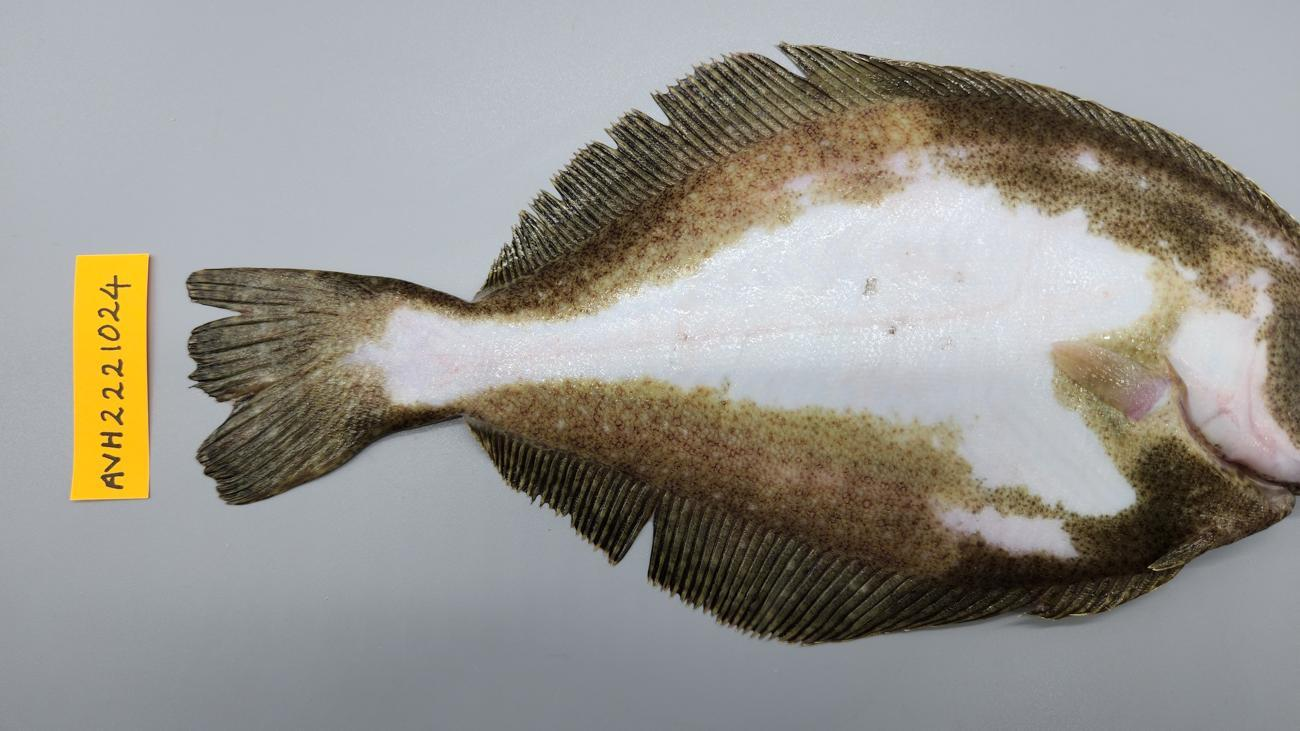VIDYH: (504, 421, 1098, 589), (1114, 370, 1171, 428)
VIFCH: (185, 273, 373, 502)
